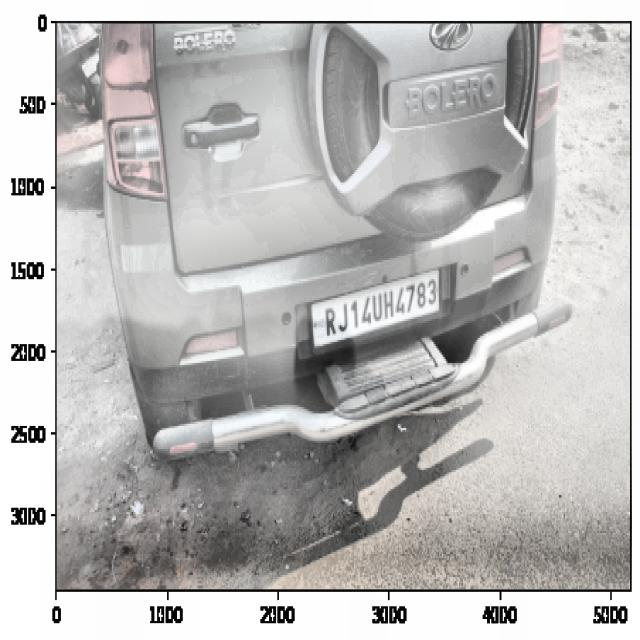license_plate: (322, 272, 440, 344)
